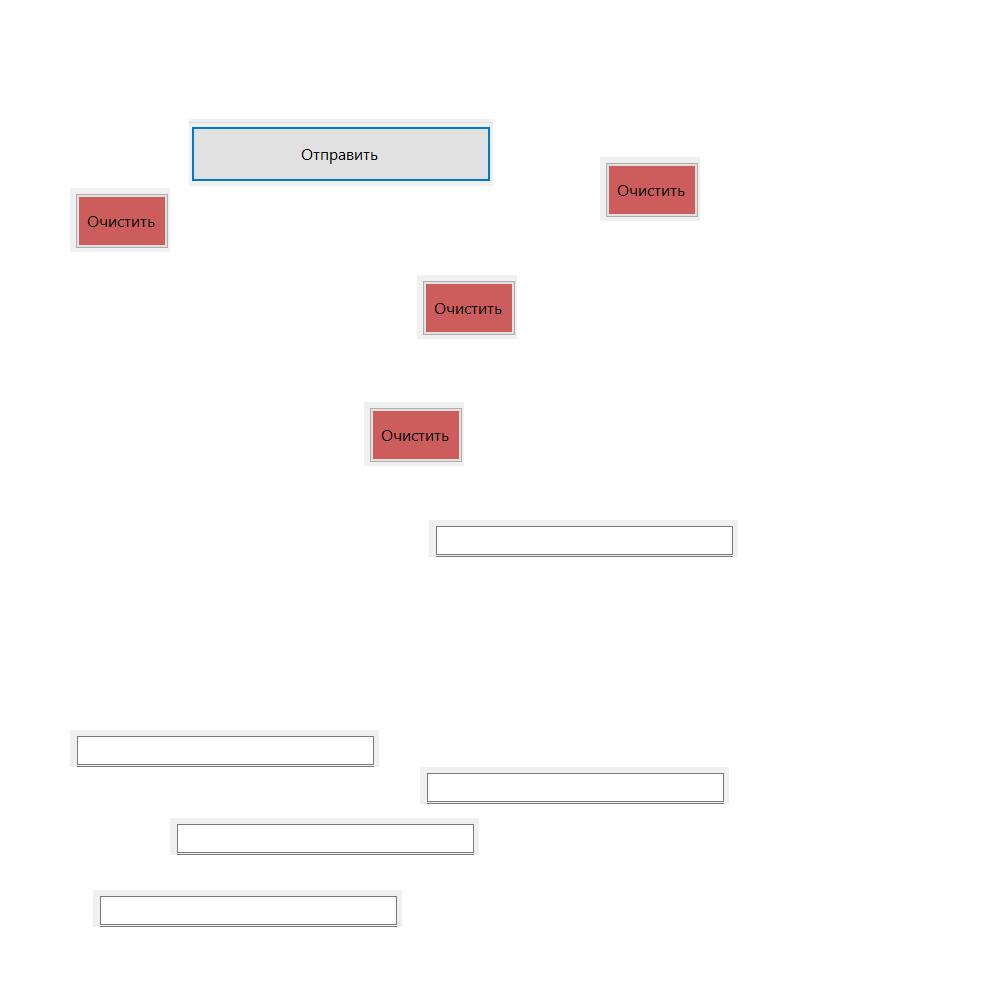Button: (189, 119, 493, 186), (364, 402, 464, 466), (417, 275, 517, 339), (600, 157, 700, 221), (70, 188, 170, 252)
EditText-: (93, 890, 402, 927), (429, 520, 738, 557), (170, 818, 479, 855), (70, 730, 379, 767), (420, 767, 729, 804)
